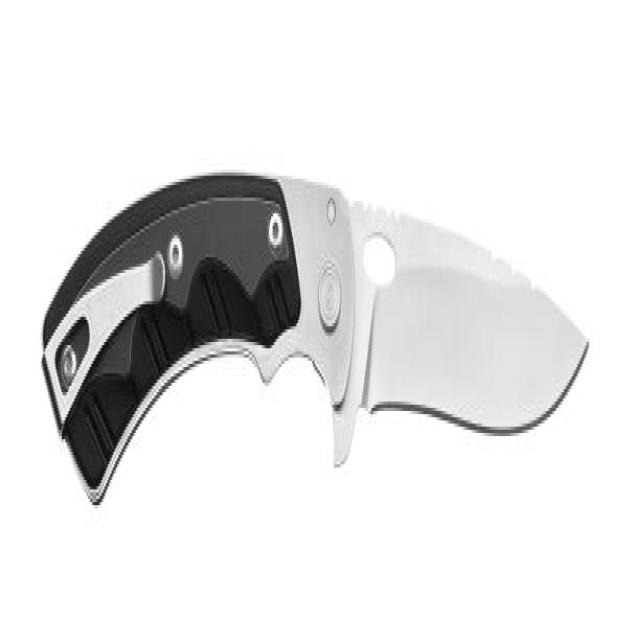knife: (43, 136, 595, 546)
